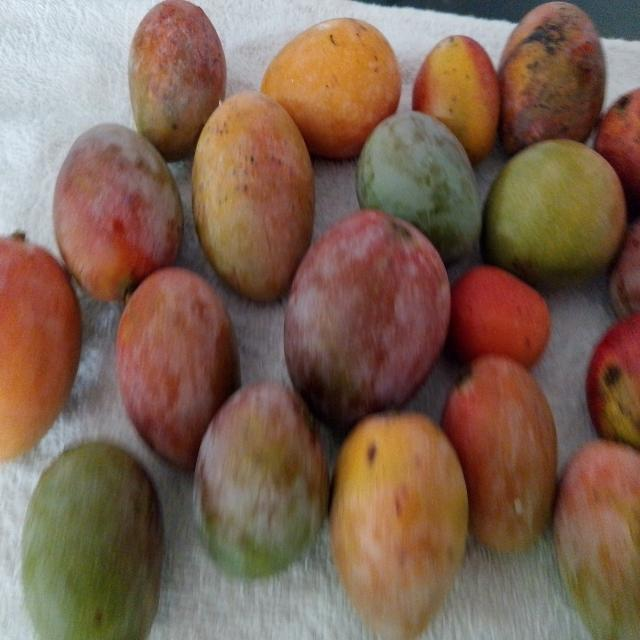mango: (282, 207, 451, 424), (330, 413, 467, 639), (22, 443, 163, 639), (195, 382, 329, 578), (192, 92, 315, 300), (52, 122, 185, 308), (442, 353, 560, 556), (482, 140, 626, 287), (0, 223, 84, 460), (261, 18, 401, 158), (357, 112, 481, 263), (499, 2, 605, 154), (128, 0, 226, 161), (413, 35, 500, 164), (454, 260, 551, 366)
